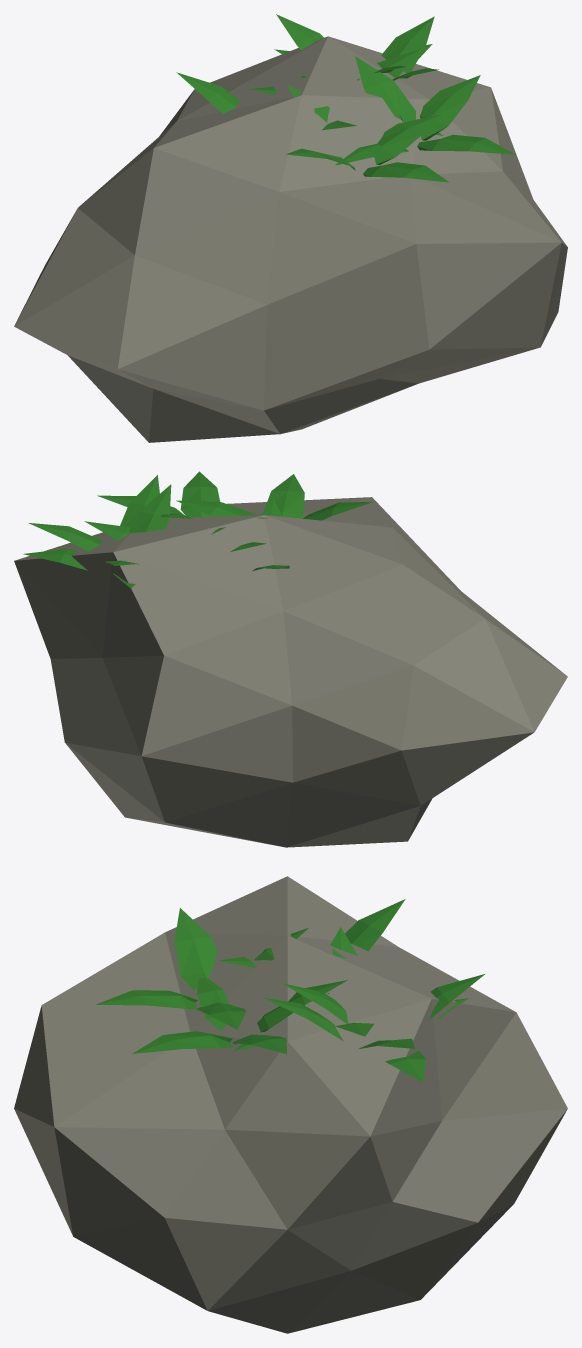
The model's file is rock_plants.glb.
The picture shows the model from 3 angles, top to bottom: view 1: azimuth 30°, elevation 25°; view 2: azimuth 150°, elevation 25°; view 3: azimuth 270°, elevation 25°; orthographic projection. The views are drawn at different scales.
Visible parts, largest first — view 1: stone-col, leaf; view 2: stone-col, leaf; view 3: stone-col, leaf.
Part boxes in pixels (box(x1,y1,x2,y2)): stone-col: box(14, 36, 567, 442); leaf: box(176, 14, 515, 182); stone-col: box(14, 497, 567, 847); leaf: box(23, 471, 373, 588); stone-col: box(14, 876, 567, 1333); leaf: box(96, 899, 484, 1082).
Size of the model in its own units: 2.69 by 1.68 by 2.32.
